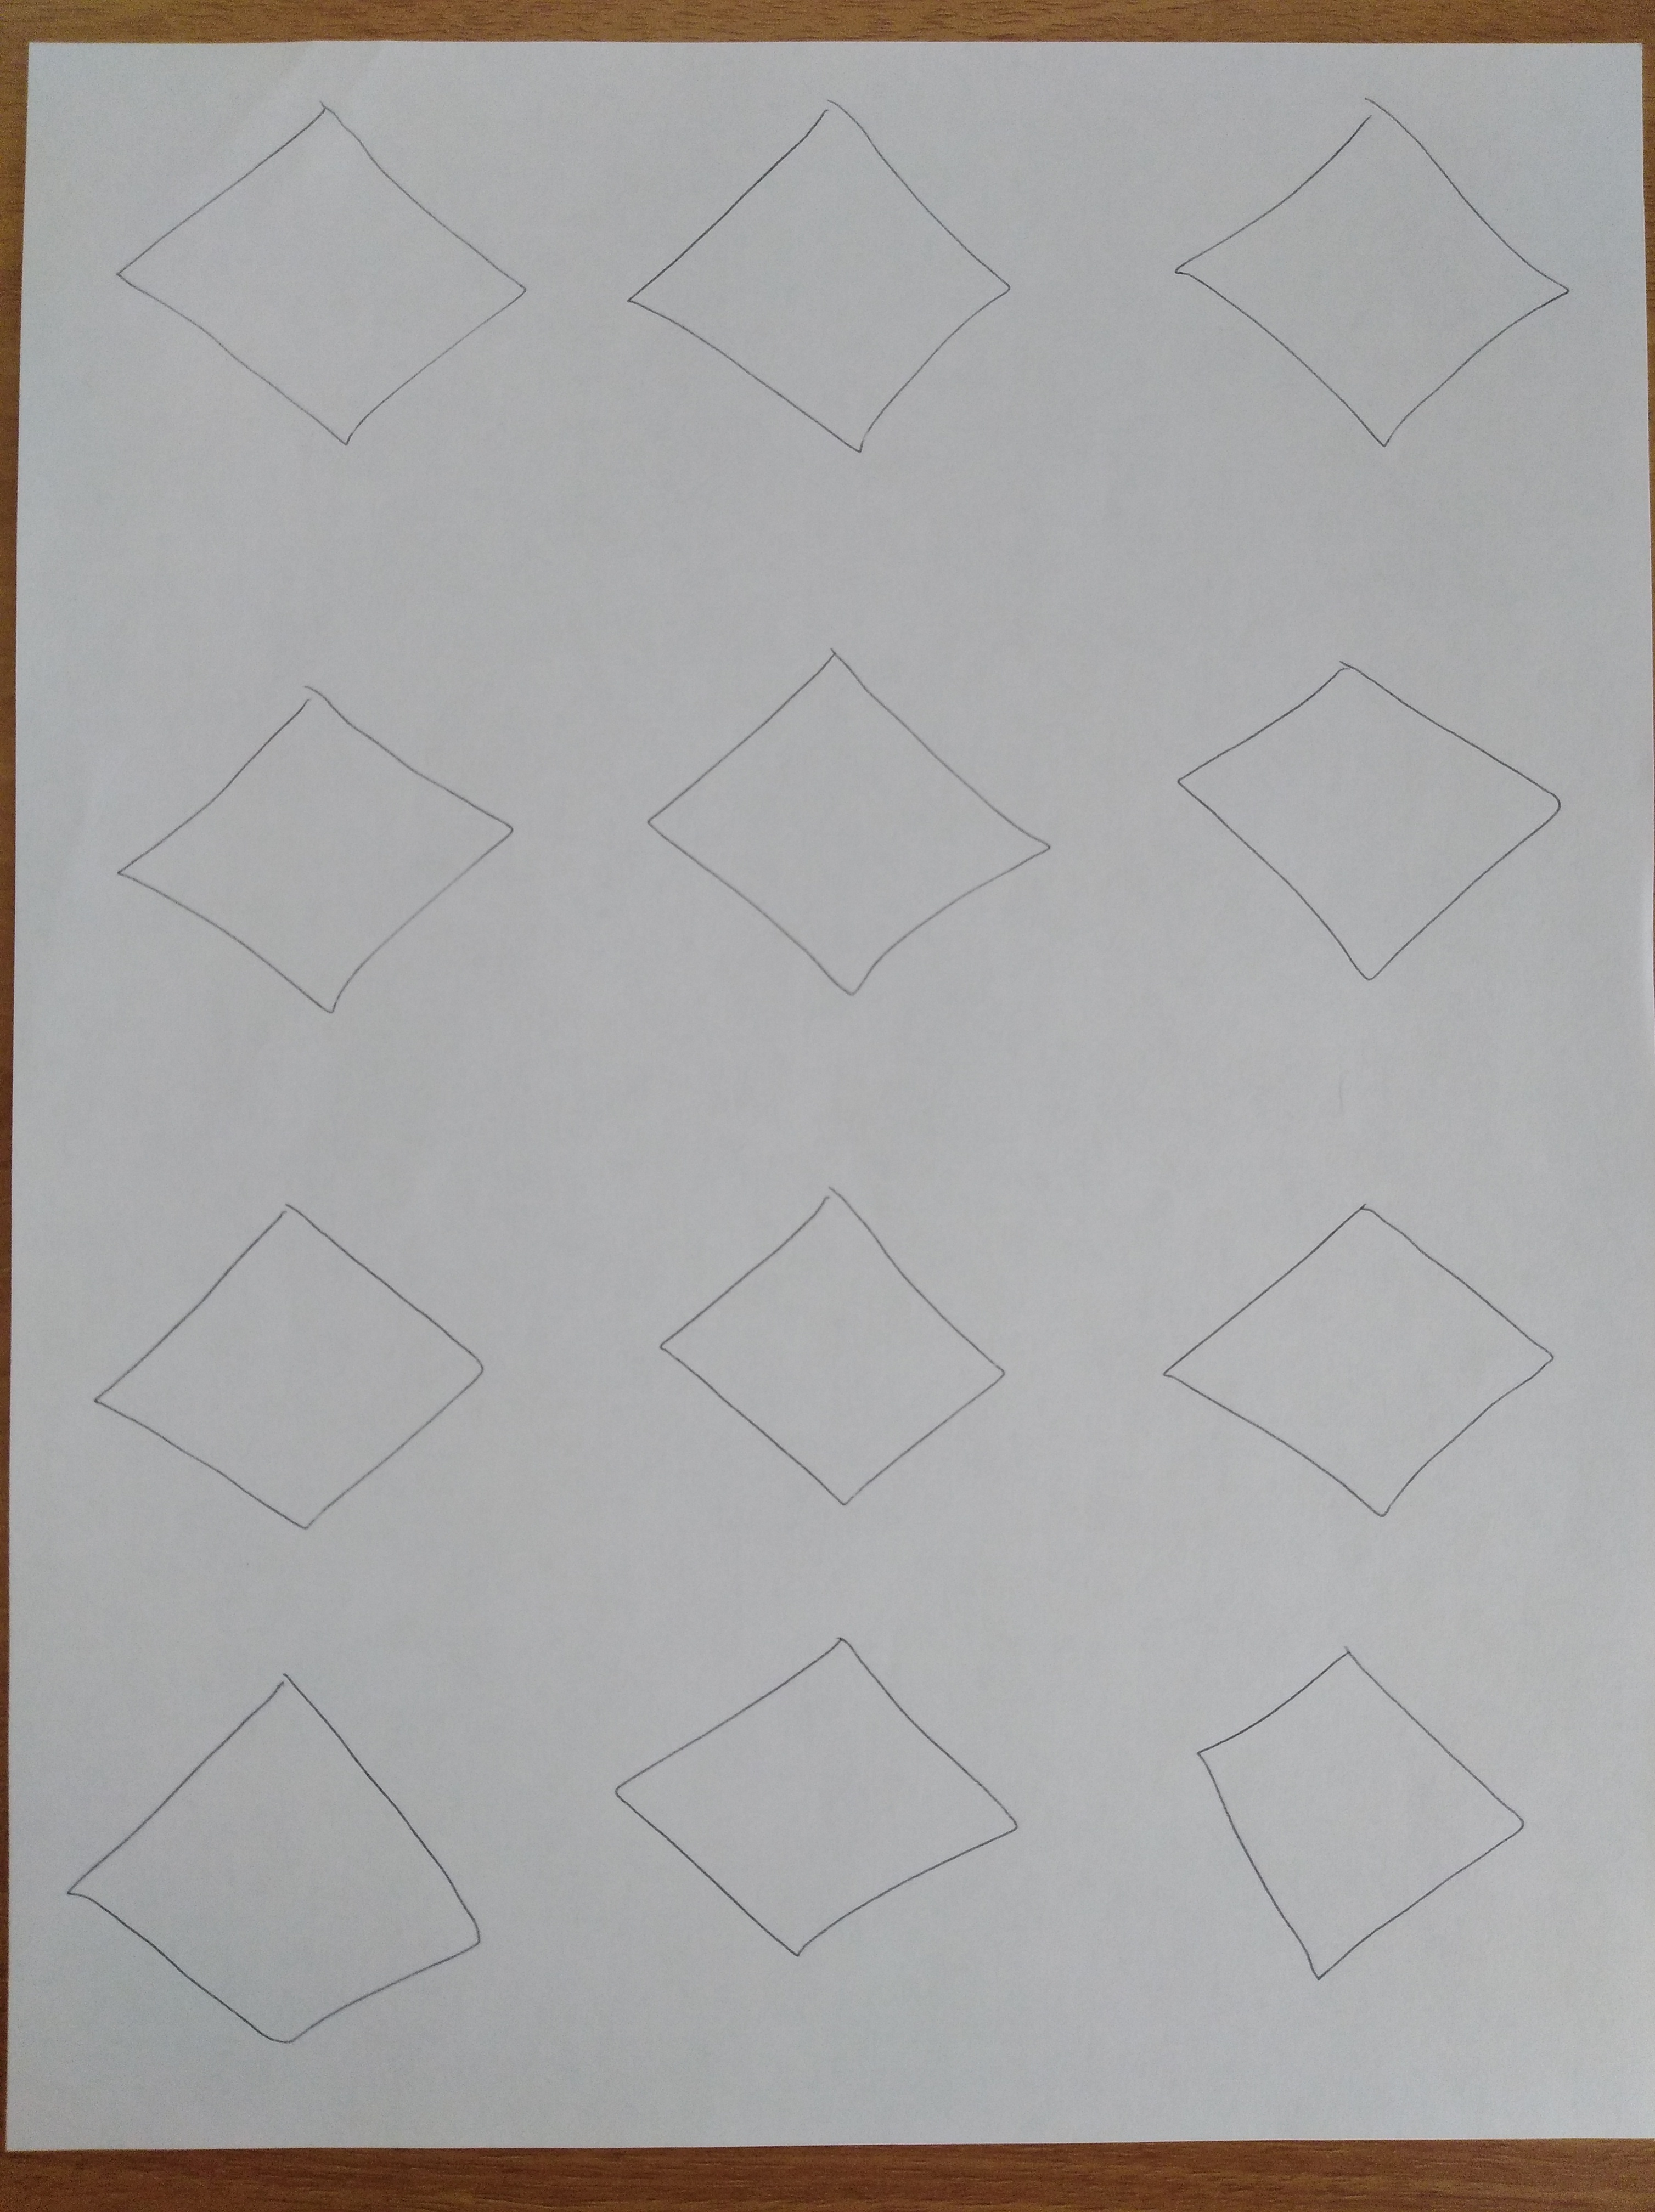decision: (43, 1651, 509, 2111), (82, 657, 555, 1062), (626, 622, 1083, 1034), (57, 1161, 534, 1555), (89, 83, 565, 462), (605, 80, 1055, 478), (1144, 78, 1598, 471), (1151, 608, 1594, 1010), (1140, 1147, 1584, 1548), (586, 1600, 1048, 1979), (1151, 1614, 1577, 2007), (626, 1147, 1038, 1541)
